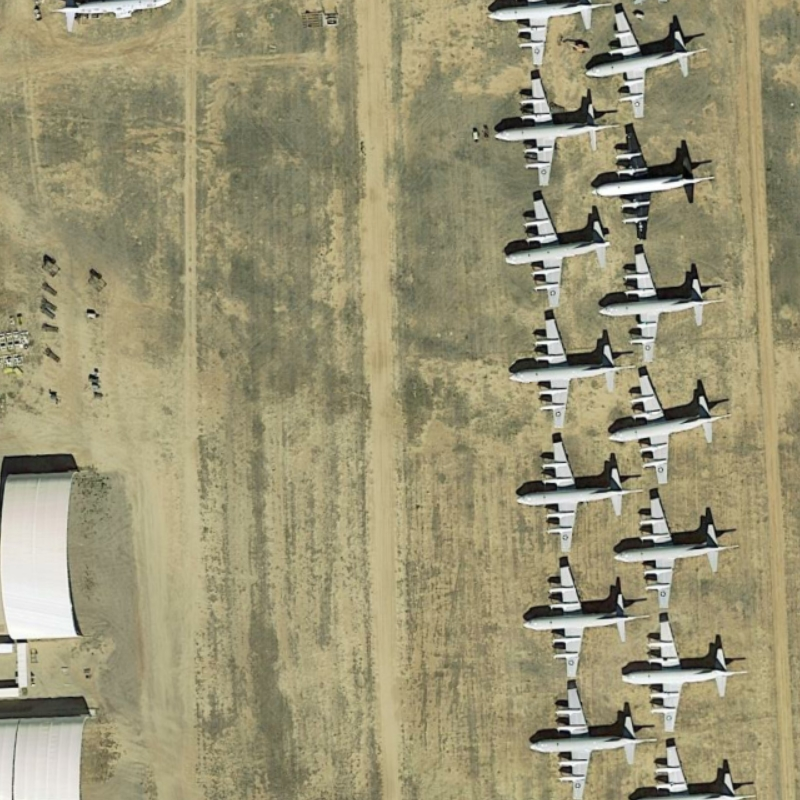A9: (481, 63, 620, 192), (513, 553, 649, 683), (619, 609, 755, 738), (606, 489, 737, 619), (497, 312, 636, 431), (599, 239, 726, 368), (520, 682, 664, 795), (581, 3, 713, 125), (594, 122, 718, 248), (602, 369, 732, 489), (512, 437, 643, 555), (495, 186, 615, 313)
